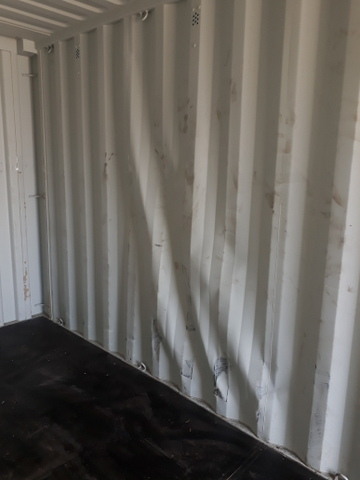right_side: (33, 1, 357, 434)
